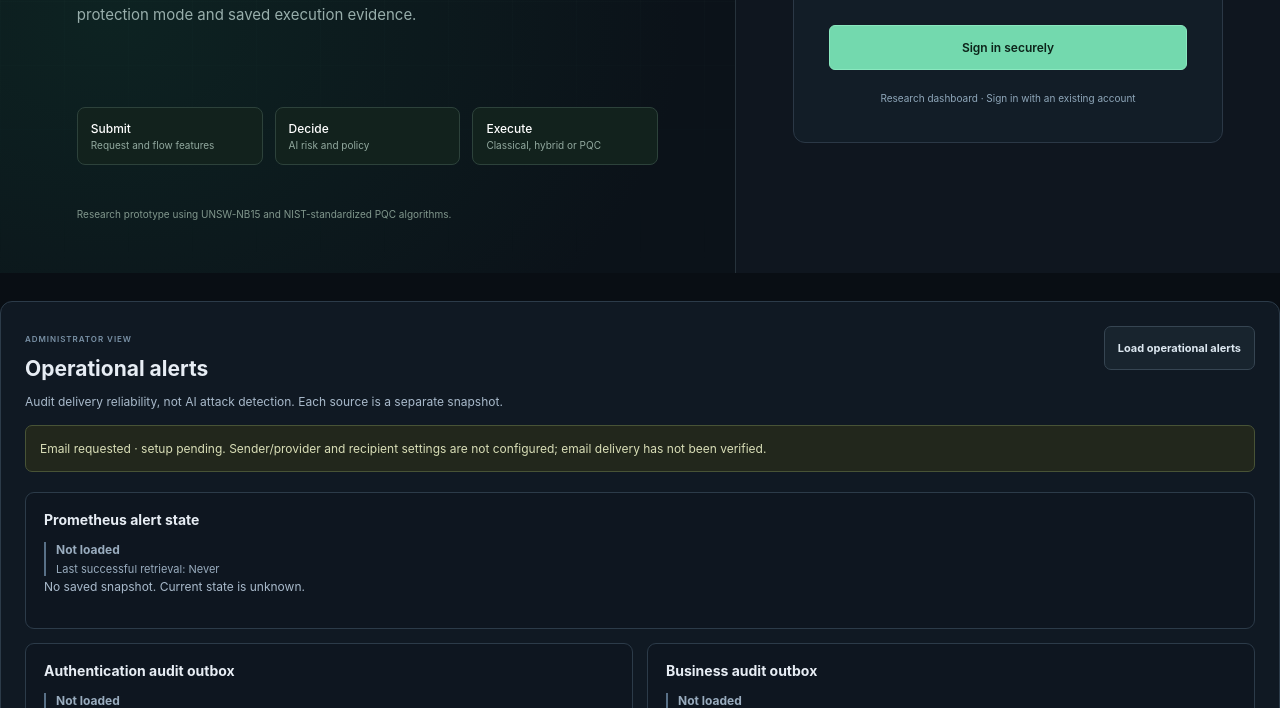
Test case: Operational snapshot access/session boundaries › logs out immediately on401 and cancels peers even if they ignore cancellation
(page scrolled)
Click the button "Load operational alerts" at (1179, 348), box x1=1104 y1=326 x2=1255 y2=370
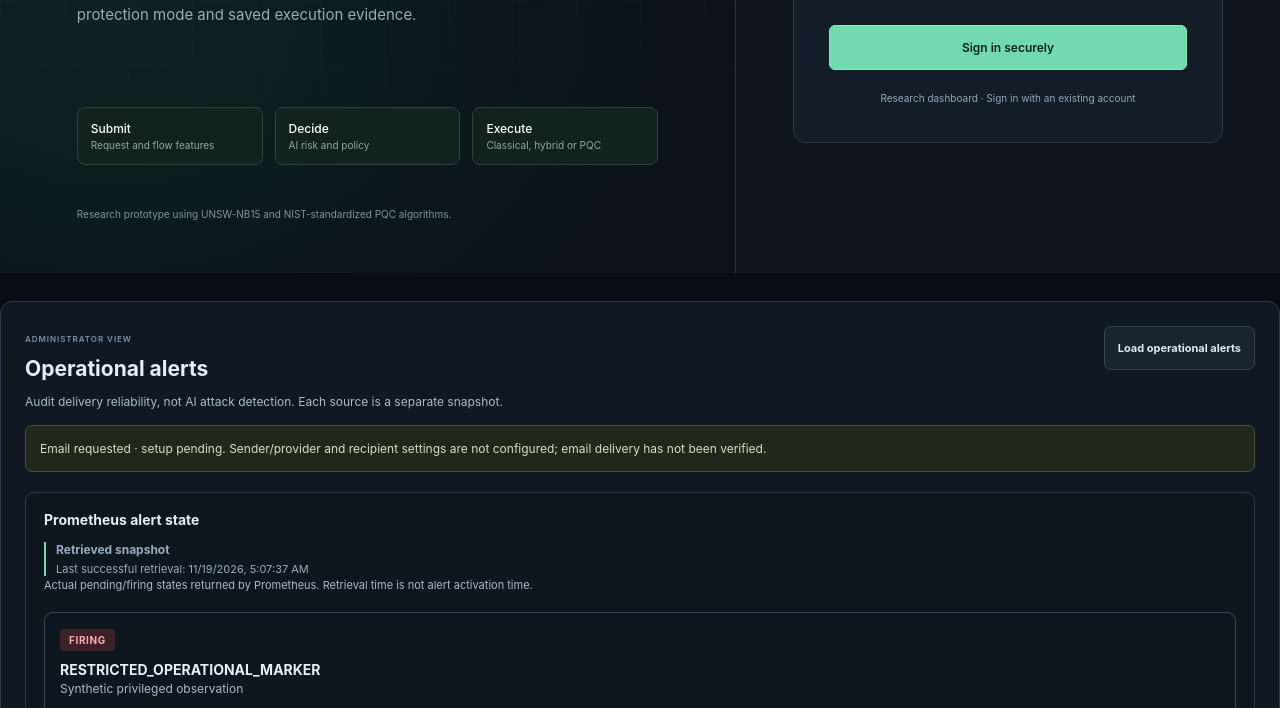
Check: the heading "RESTRICTED_OPERATIONAL_MARKER" is shown, box x1=60 y1=661 x2=321 y2=678
Click the button "Load operational alerts" at (1179, 348), box x1=1104 y1=326 x2=1255 y2=370
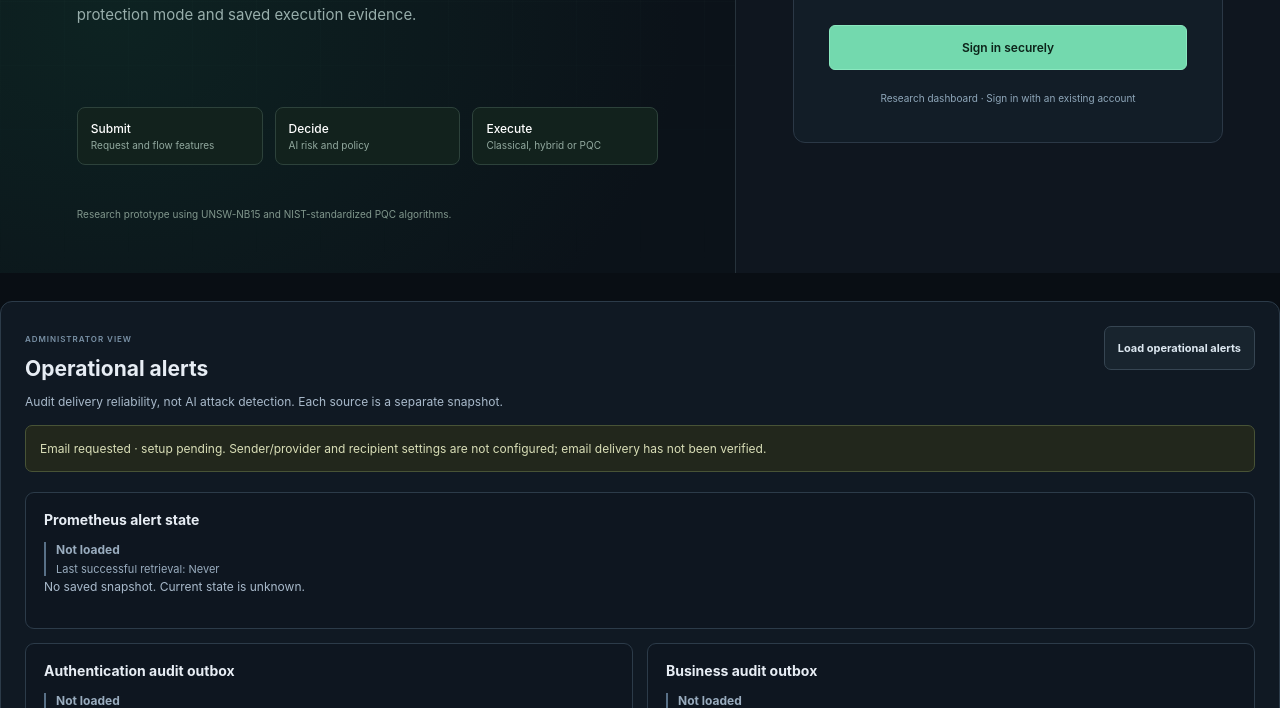
Check: the heading "RESTRICTED_OPERATIONAL_MARKER" is gone
